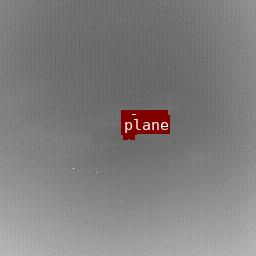plane: (121, 129, 136, 134), (123, 134, 134, 138)
